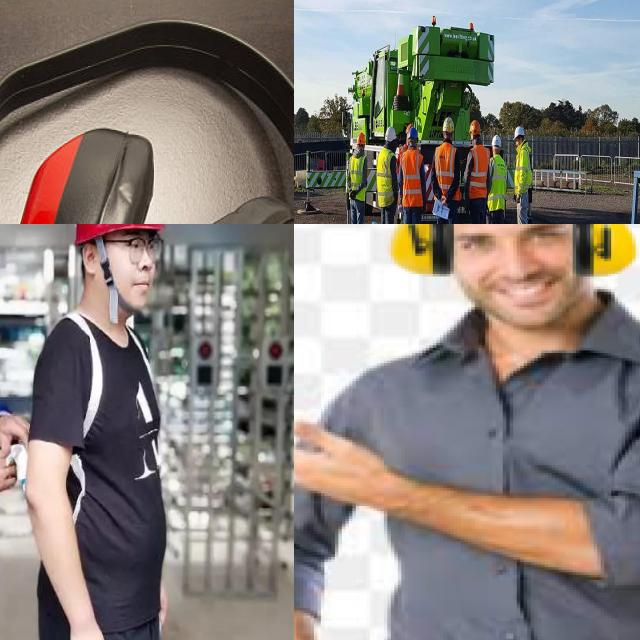Ear-protection: (0, 19, 294, 224), (365, 224, 640, 284)
No_Ear-Protection: (68, 224, 172, 343)
head_helmet: (384, 126, 396, 144), (407, 125, 419, 143), (469, 118, 481, 136), (442, 116, 453, 135), (491, 134, 502, 149), (513, 125, 524, 138), (357, 134, 365, 146)
person: (428, 115, 461, 224), (465, 120, 487, 224), (400, 128, 423, 224), (376, 126, 396, 224), (348, 133, 369, 224), (488, 134, 509, 224), (513, 125, 532, 224)
vest: (399, 148, 425, 208), (433, 140, 458, 200), (376, 147, 396, 210), (466, 145, 488, 198), (488, 152, 506, 212), (348, 152, 369, 202), (514, 146, 533, 196)
